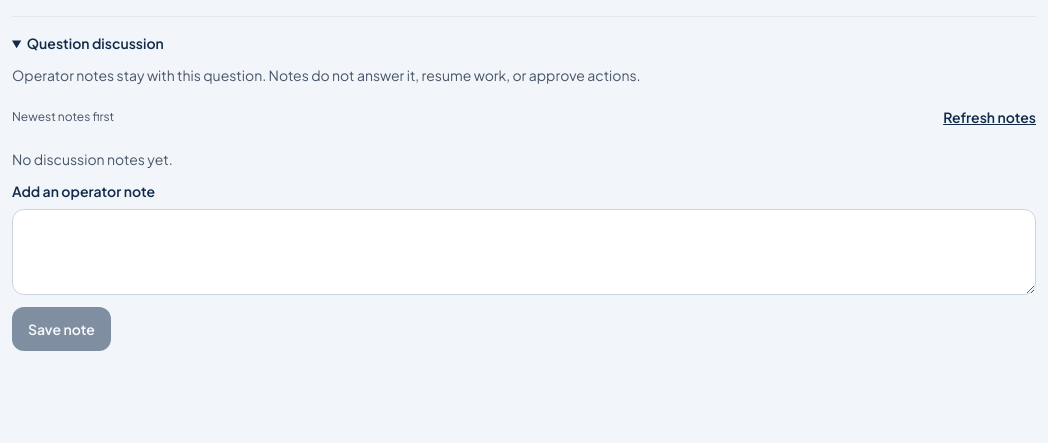
Test case: AgentQuestionDiscussion › freezes the exact operation and body after a lost acknowledgement and retries without duplication
Expected: the text "No discussion notes yet." is shown, [12,150,173,168]
Step 1. Type "Check the north entrance map." into the text box labelled "Add an operator note" → (524, 252), box [12,209,1036,295]
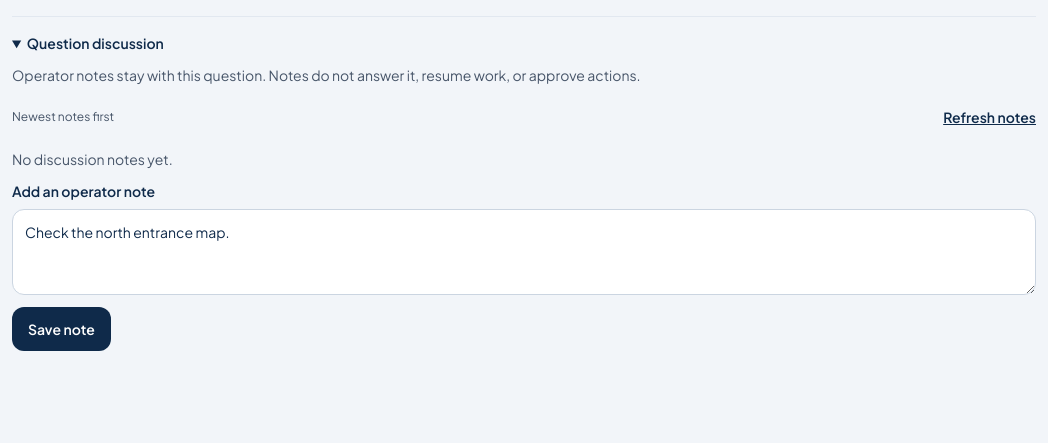
Step 2. Click the button "Save note" → (61, 329), box [12,307,111,351]
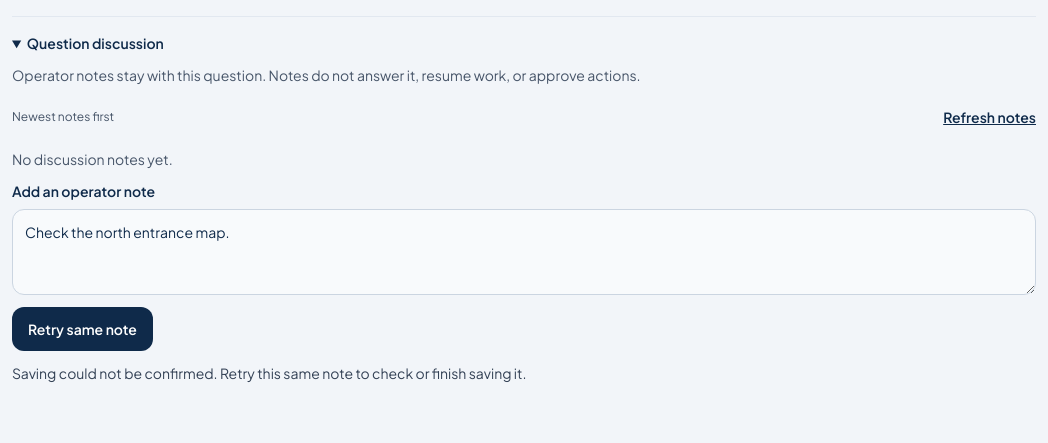
Expected: the text box labelled "Add an operator note" is disabled, [12,209,1036,295]
Step 3. Click the button "Retry same note" → (82, 329), box [12,307,153,351]
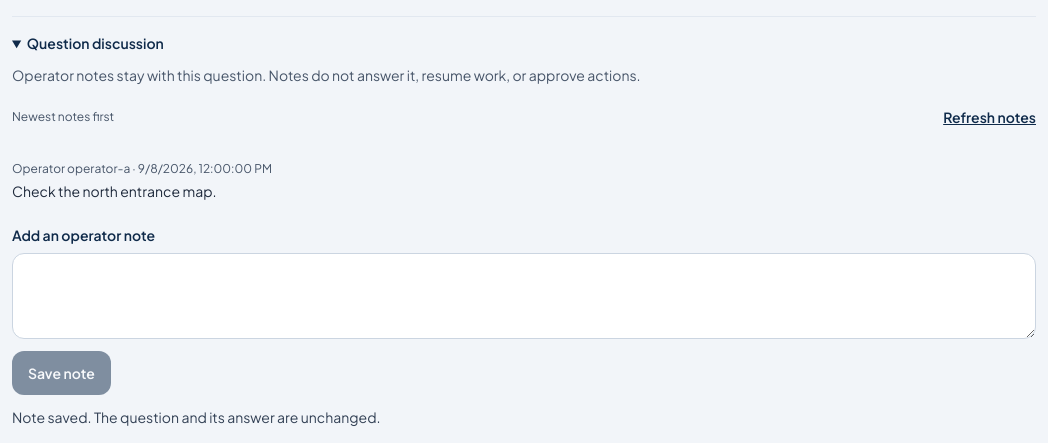
Expected: the text "Note saved. The question and its answer are unchanged." is shown, [12,408,380,426]
Expected: the text "Check the north entrance map." is shown once, [12,182,216,200]
